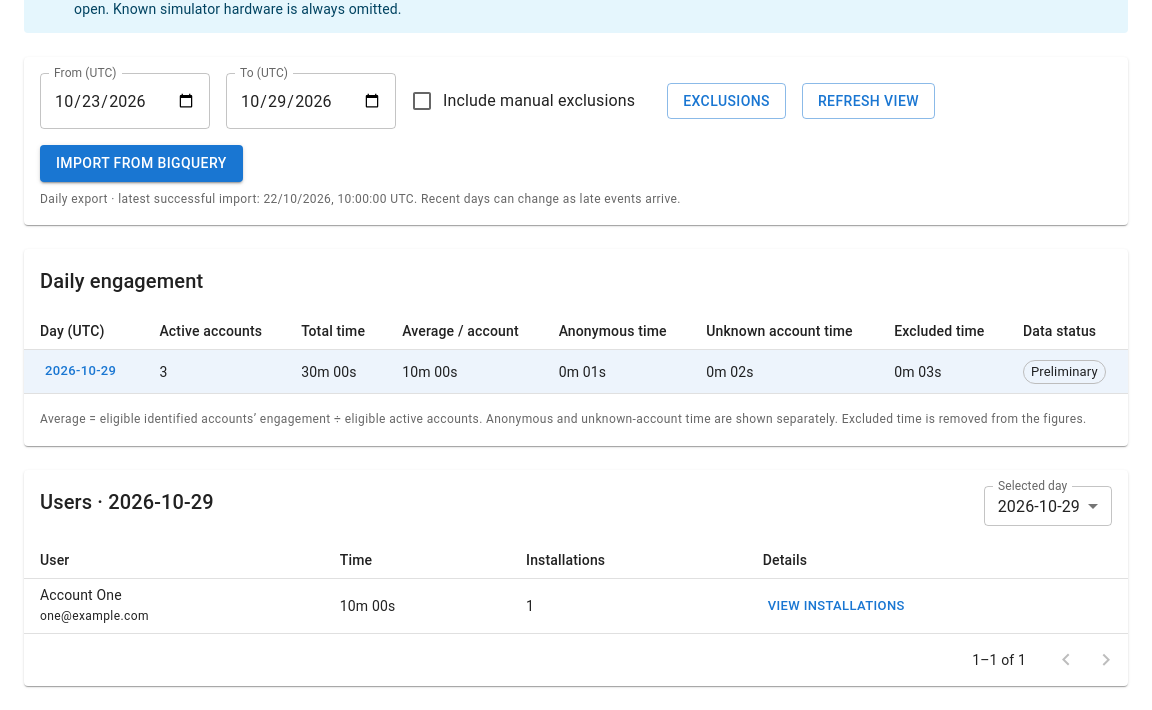
Test: closes installation details when a fast mutation reload replaces the report
The width and height of the screenshot is (1152, 710).
(page scrolled)
Check: the text "Account One" is shown, box [40, 587, 122, 603]
Click the button "View installations" at (836, 606), box [763, 591, 910, 622]
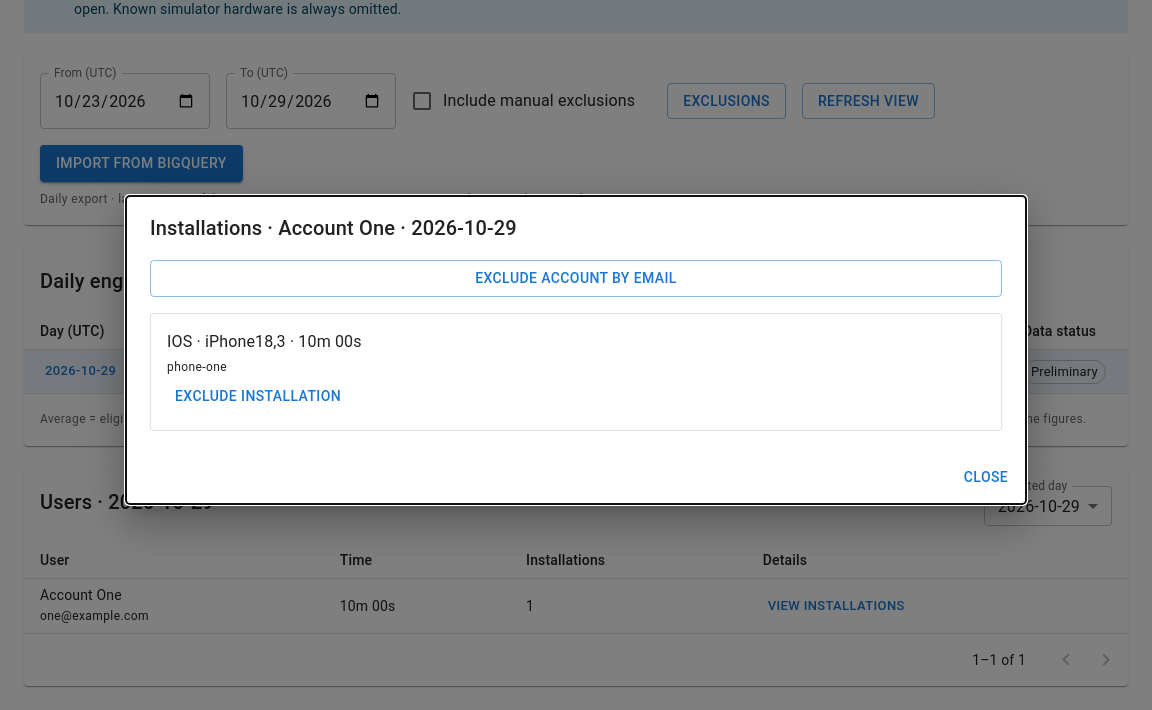
Check: the dialog "Installations · Account One" is shown, box [126, 196, 1026, 504]
Click the button "Exclude account by email" at (576, 279), box [150, 260, 1002, 297]
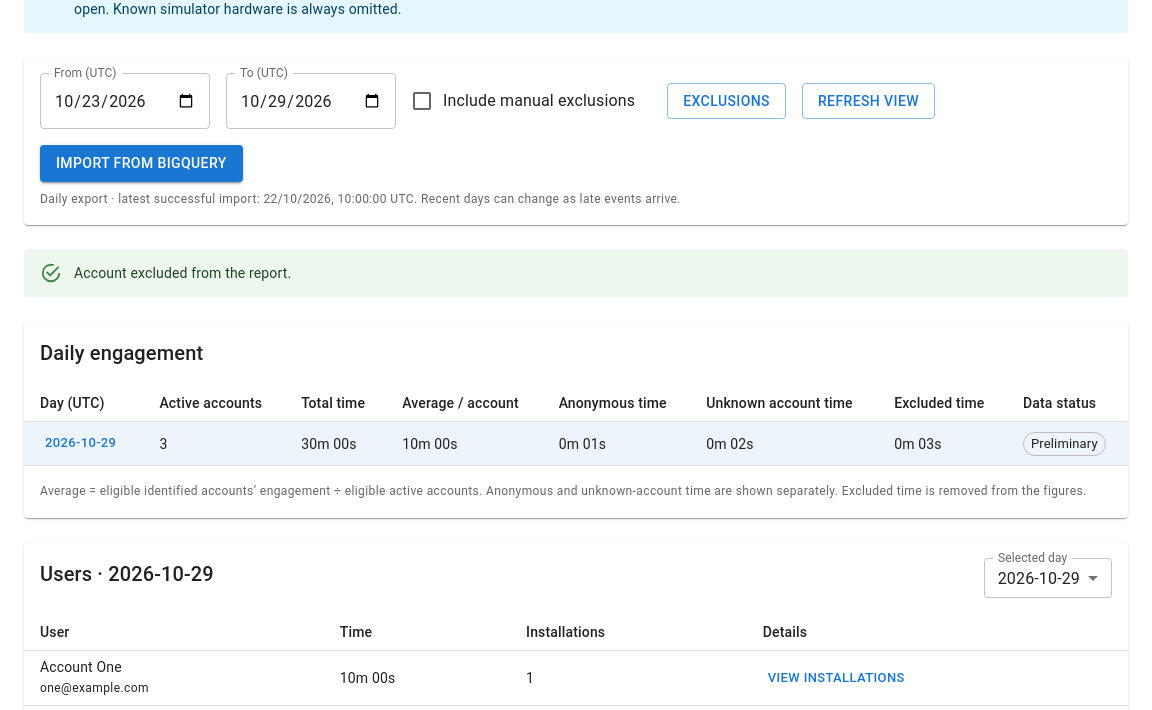
Check: the button "Exclude account by email" is gone
